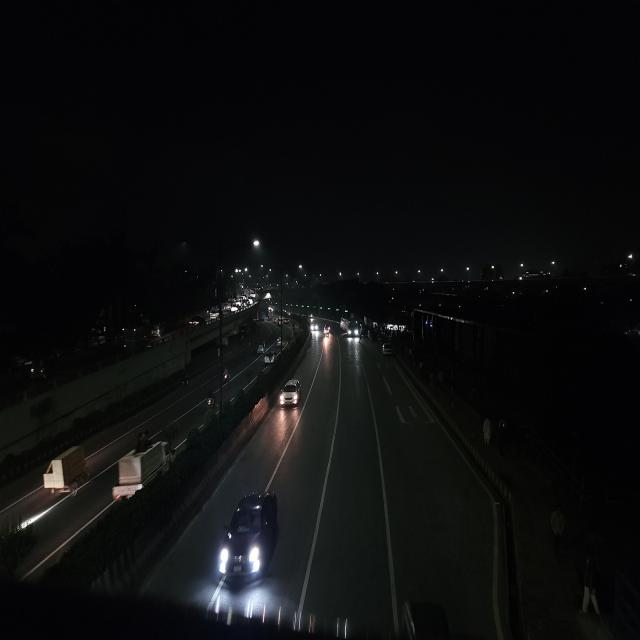bus: (345, 315, 361, 340)
car: (214, 485, 285, 594), (277, 377, 303, 411), (380, 340, 394, 358), (188, 316, 204, 330), (150, 322, 163, 339), (264, 349, 278, 364), (208, 307, 221, 321)
cng: (256, 341, 266, 356)
motorcycle: (204, 387, 218, 410), (221, 364, 231, 384)
pickup_van: (110, 432, 176, 501)
rickshaw: (39, 437, 88, 501)
truck: (120, 324, 148, 353)
